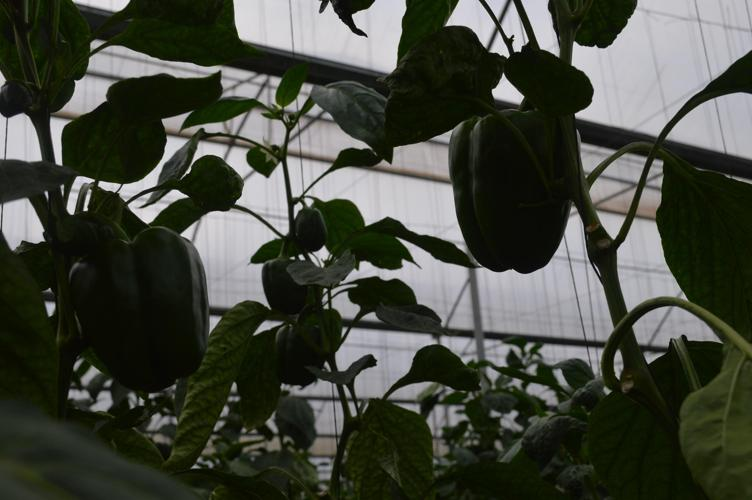BellPepper: (68, 239, 221, 394), (439, 105, 571, 283), (264, 321, 337, 398), (287, 184, 334, 262), (259, 253, 314, 319)
